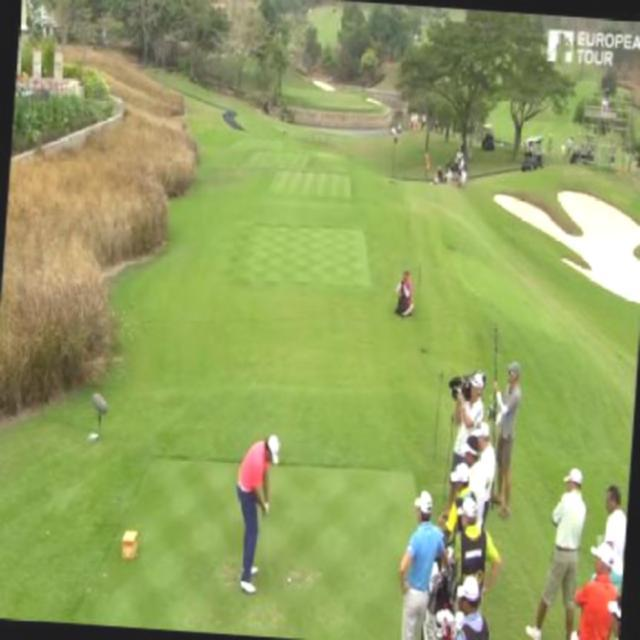non-fight: (229, 429, 283, 602)
